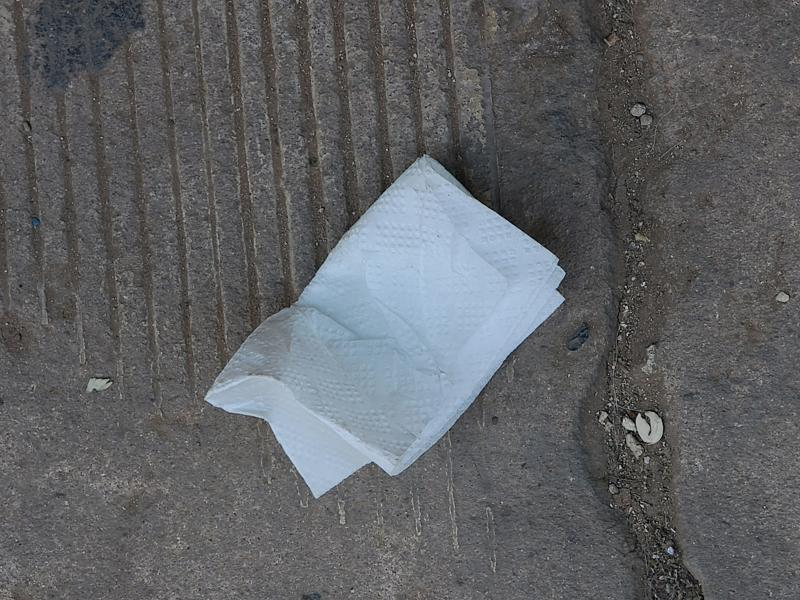papel: (203, 155, 566, 501)
